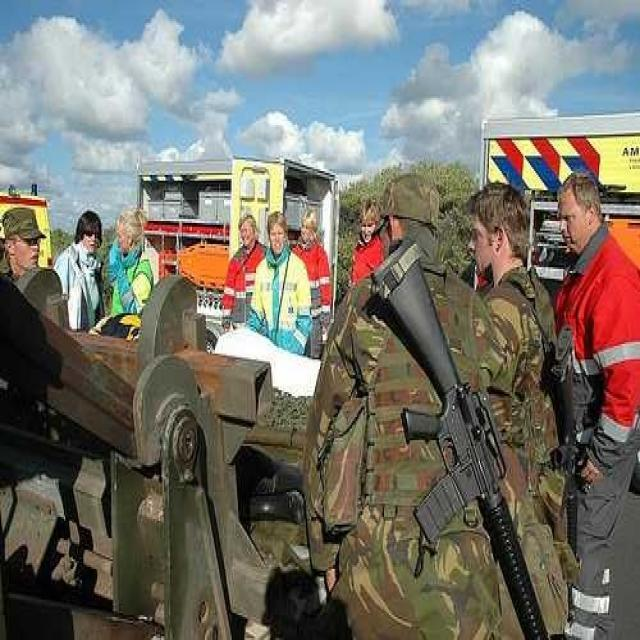Rifle: (367, 244, 566, 640)
